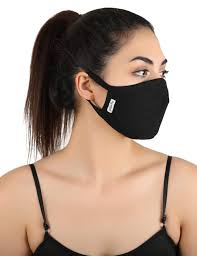with-mask: (67, 6, 169, 152)
